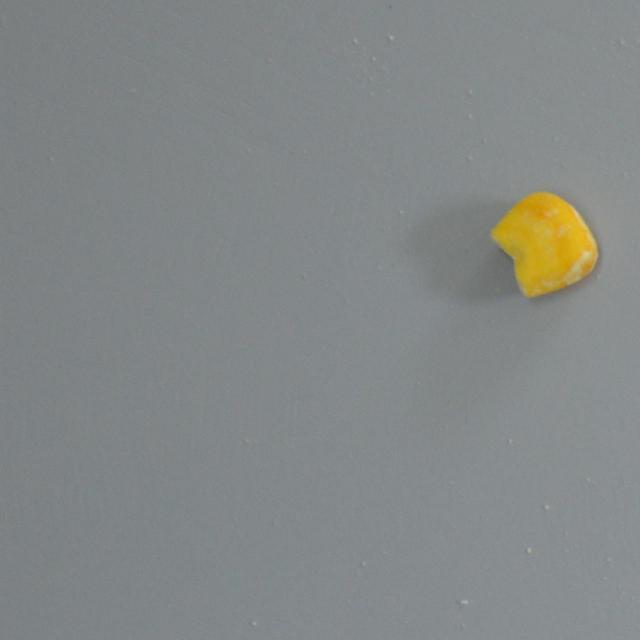pelicula: (490, 188, 599, 302)
